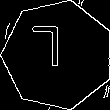L_S: (42, 30, 74, 80)
